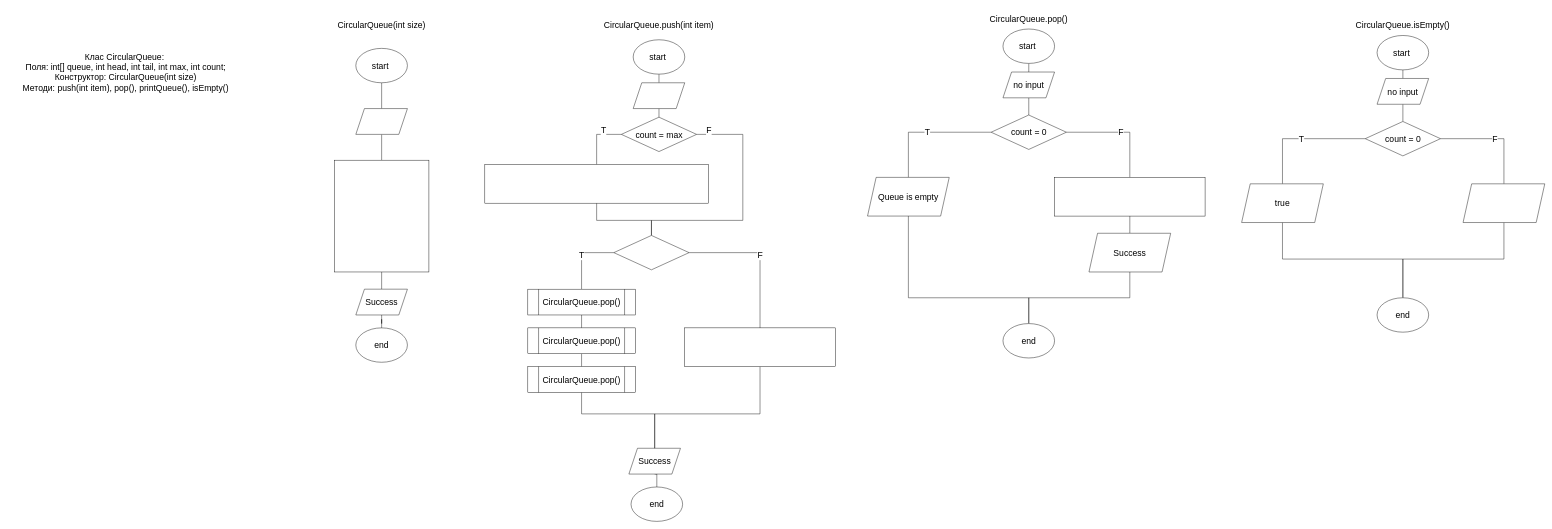
This 1552x529 diagram has some shape labels left out. The shapes that lost their labels are listed below. From the top down, each one's centre as x and y in pixels, then its label:
At (x=659, y=95): "item є N".
At (x=381, y=121): "size є N".
At (x=596, y=183): "Виділення додаткової пам'яті queue (на 10 елементів) max = max + 10".
At (x=1129, y=196): "head = (head + 1) mod max count = count - 1".
At (x=1504, y=203): "false".
At (x=381, y=216): "queue = new int[size] head = 0 tail = -1 max = size count = 0".
At (x=651, y=252): "item = 0".
At (x=759, y=347): "tail = (tail + 1) mod max queue[tail] = item count = count + 1".
